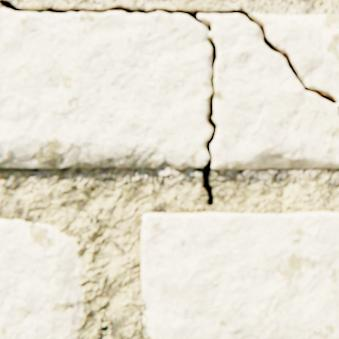brick: (142, 211, 338, 338), (0, 219, 87, 338)
broken_brick: (0, 9, 338, 169)
crack: (1, 0, 336, 103), (202, 39, 217, 205)
